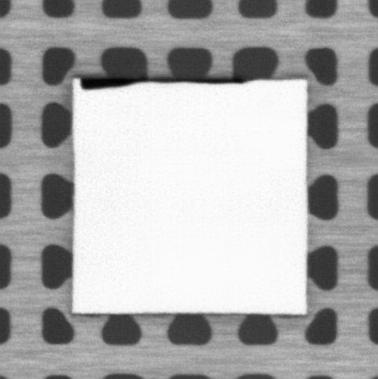DIE_BROKEN: (77, 75, 248, 92)
